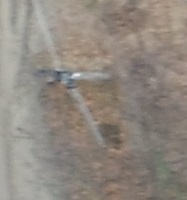opora: (38, 65, 114, 147)
